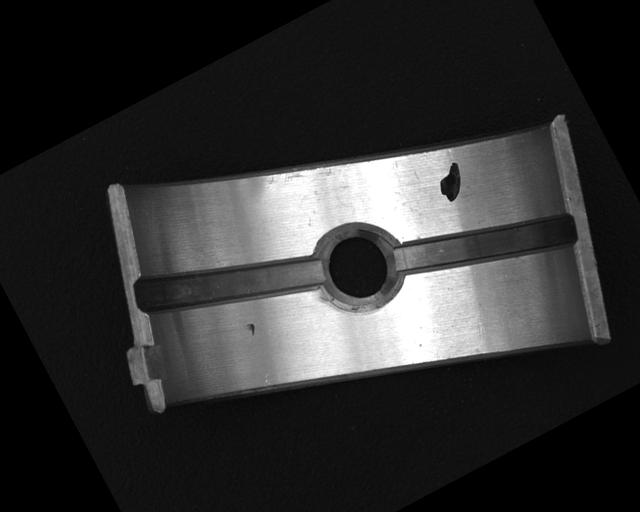blot: (431, 160, 473, 205)
bruise: (245, 320, 259, 337)
gap: (132, 202, 330, 364), (390, 169, 586, 322)
hole: (306, 212, 415, 324)
